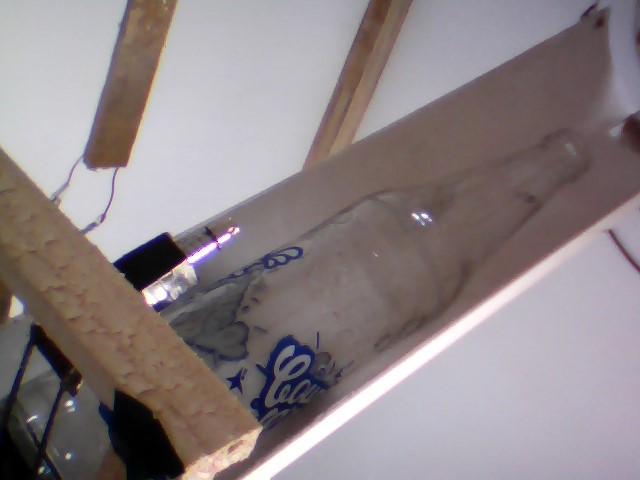vidrio: (174, 124, 597, 431)
